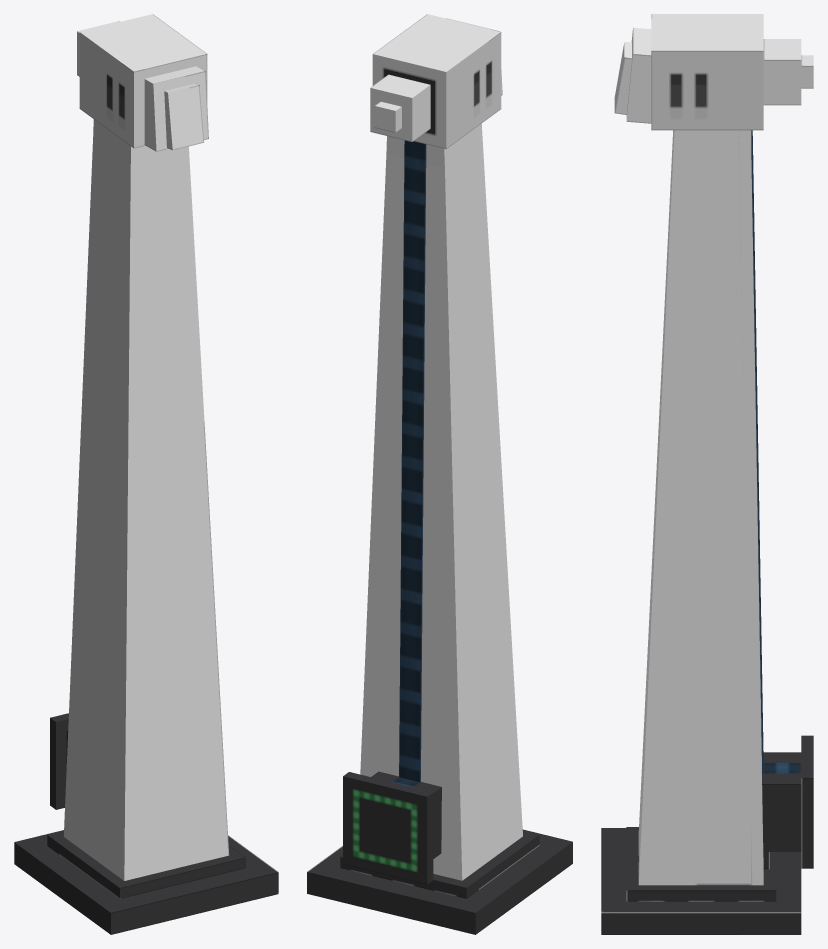
The model's file is wind_base.obj.
3 renders of one model, left to right at view 1: azimuth 30°, elevation 25°; view 2: azimuth 150°, elevation 25°; view 3: azimuth 270°, elevation 25°, orthographic. The views are drawn at different scales.
Parts seen in each view (by area): view 1: bb_main; view 2: bb_main; view 3: bb_main.
Boxes of the visible parts, x1,y1,x2,y2 form: bb_main: [14, 14, 278, 934]; bb_main: [307, 14, 572, 934]; bb_main: [601, 14, 813, 934].
Size of the model in its own units: 1 by 4.75 by 1.06.
1 material, 1 textured.
